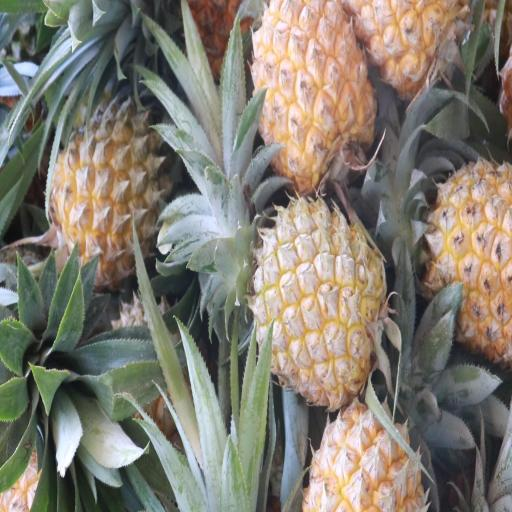------------------------------: (46, 110, 170, 282)
Pineapple - v8 v1: (252, 194, 383, 408), (252, 0, 375, 185), (425, 157, 512, 356), (303, 389, 440, 512)
